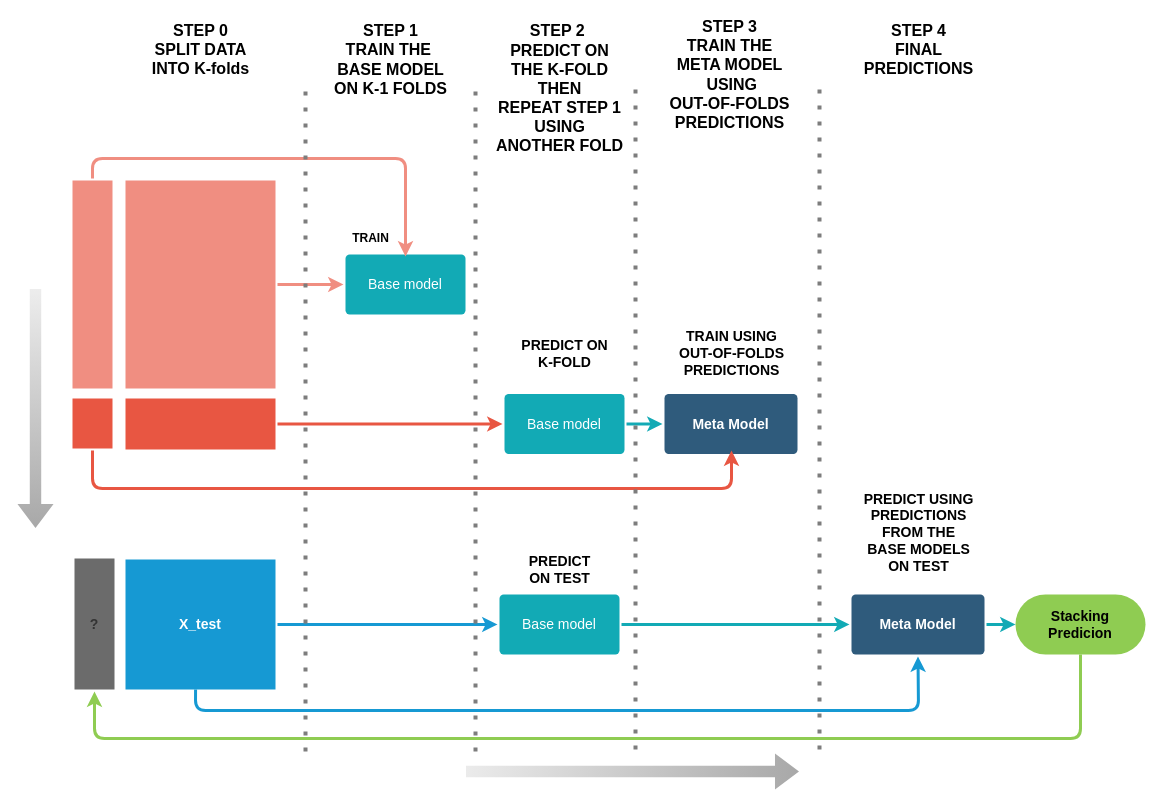
The diagram is 1163 pixels wide and 807 high, and some of its shapes have lost their labels. The shapes that lost their labels are listed below. From the top down, each one's centre as x and y in pixels, then its label:
At [92,284]: "y (k-1)".
At [200,284]: "X_fold (k-1)".
At [92,423]: "y (k)".
At [200,423]: "X_fold (k)".
